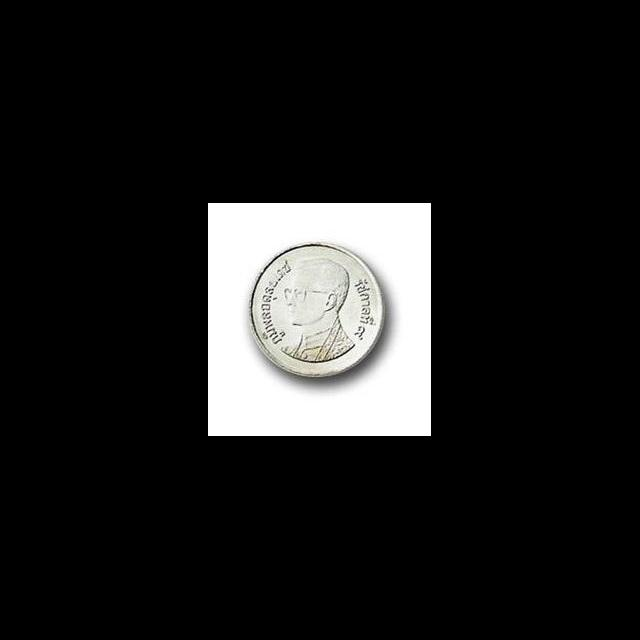1-baht: (241, 233, 396, 388)
